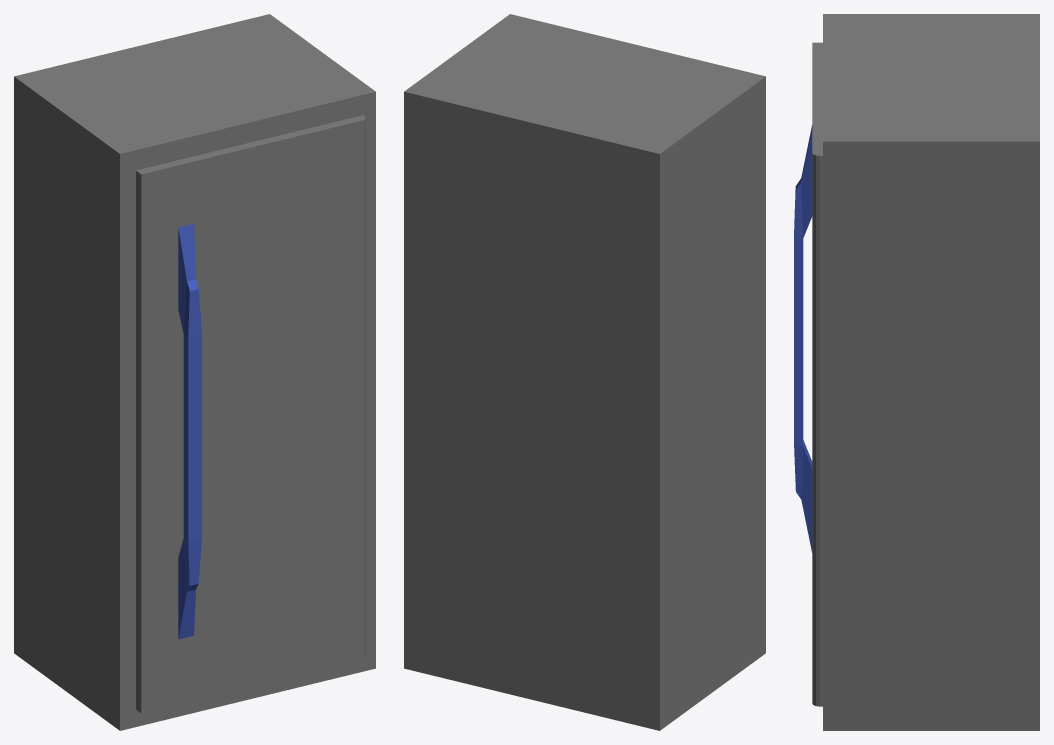
The model's file is fridge.fbx.
The picture shows the model from 3 angles, left to right: view 1: azimuth 30°, elevation 25°; view 2: azimuth 150°, elevation 25°; view 3: azimuth 270°, elevation 25°; orthographic projection. The views are drawn at different scales.
Parts seen in each view (by area): view 1: frige; view 2: frige; view 3: frige.
Part boxes in pixels (left/top/right/bottom): frige: left=14, top=14, right=375, bottom=730; frige: left=404, top=14, right=765, bottom=730; frige: left=794, top=14, right=1039, bottom=730.
Size of the model in its own units: 63.79 by 137 by 51.96.
